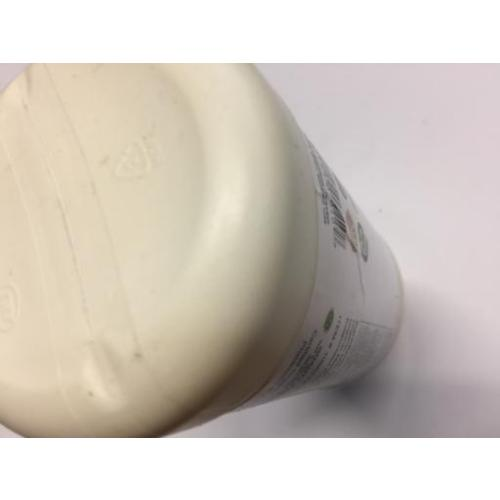plastic: (0, 62, 405, 438)
